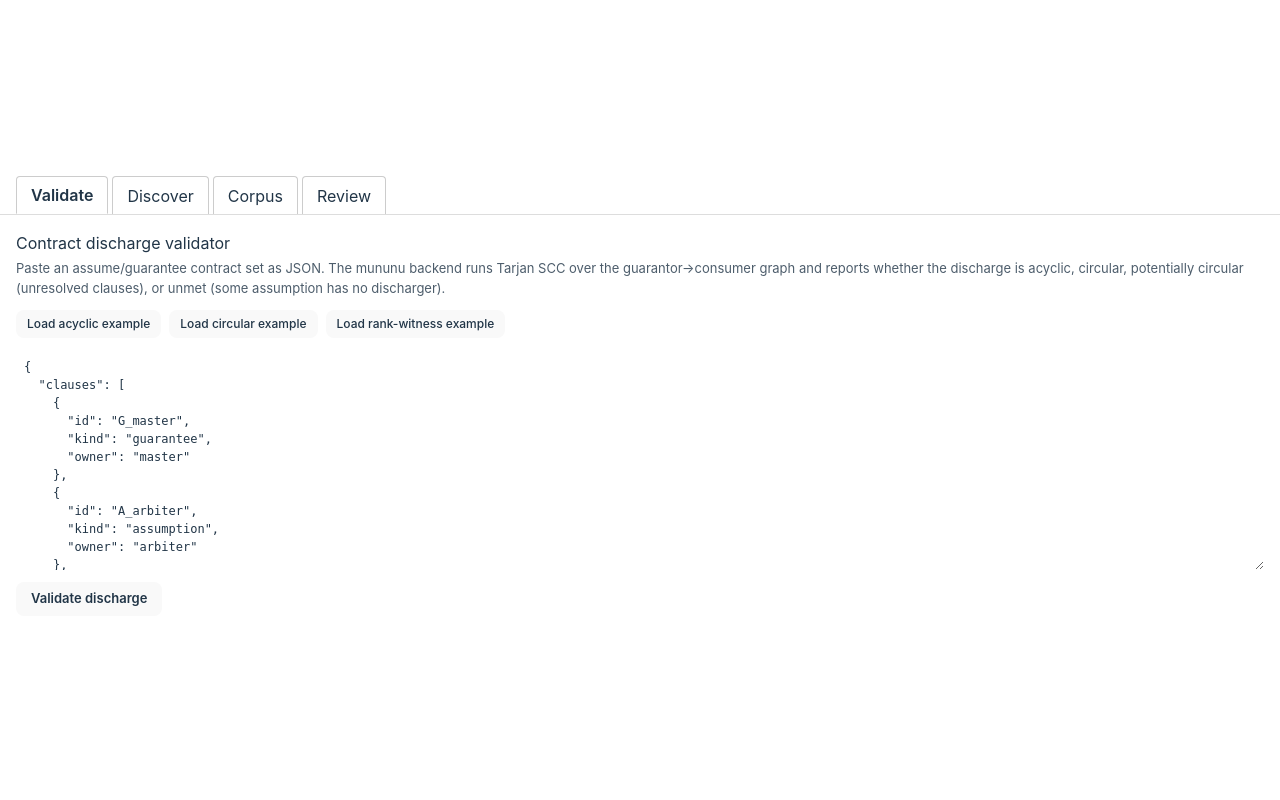
it: ContractPanel › Corpus tab renders ranked candidates with provenance + soundness badges
The width and height of the screenshot is (1280, 800).
Click the button "Corpus" at (255, 195), box [213,176,298,214]
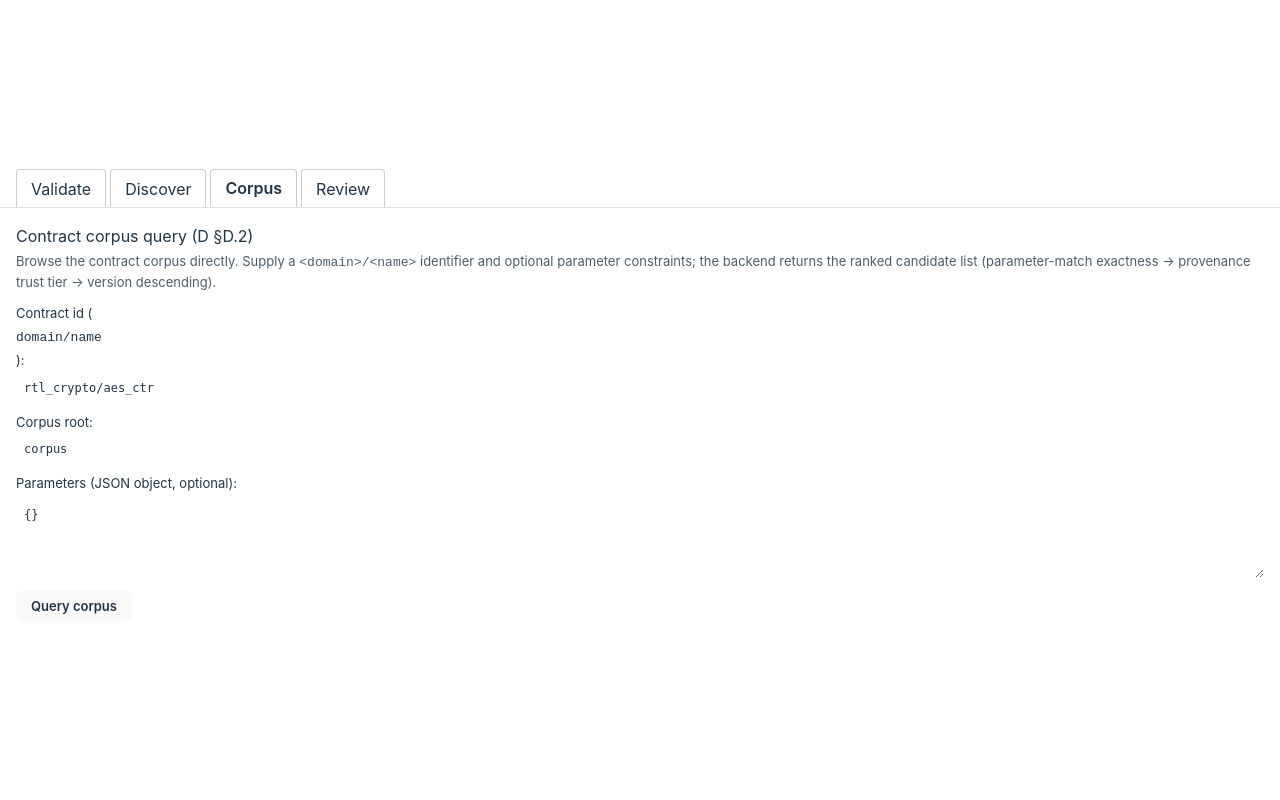
Click the button "Query corpus" at (74, 606), box [16,590,132,623]
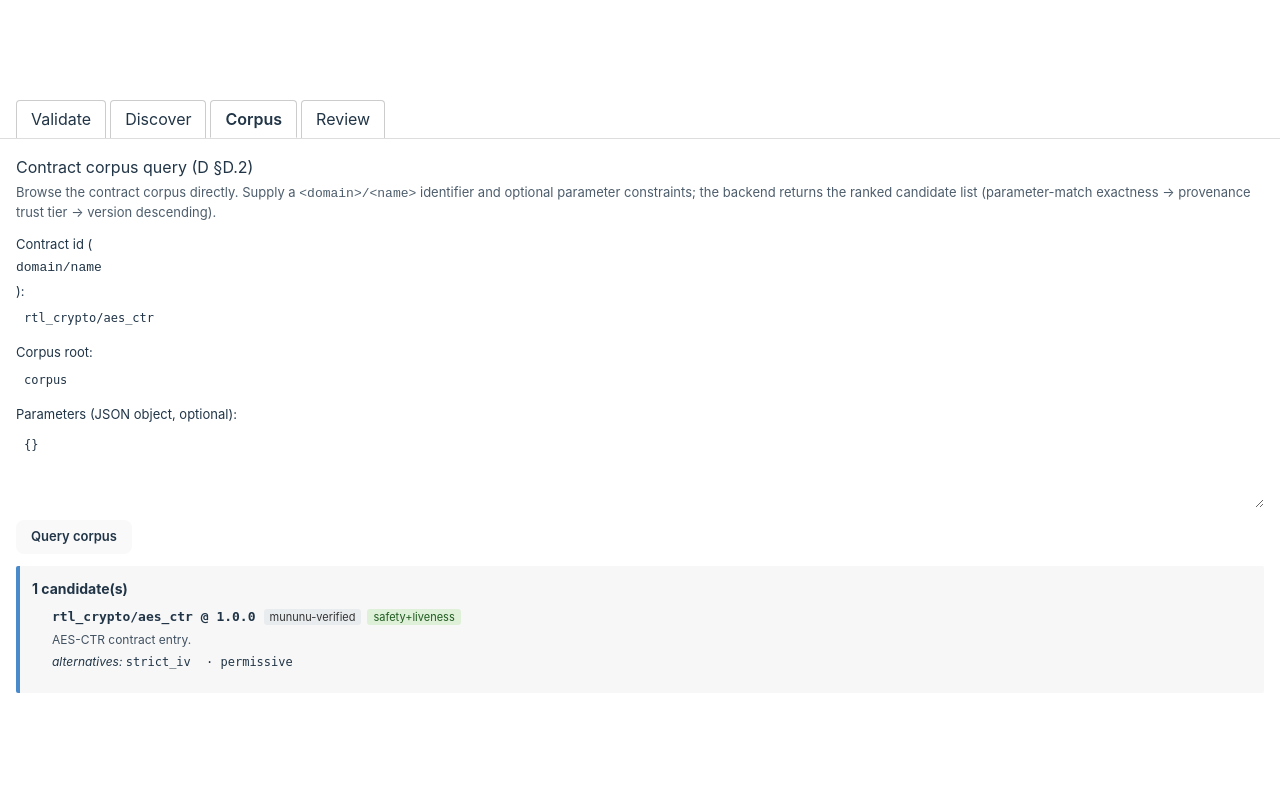
Expected: the text "1 candidate(s)" is shown, [32,580,128,596]
Expected: the text "rtl_crypto/aes_ctr @ 1.0.0" is shown, [52,609,256,624]
Expected: the text "mununu-verified" is shown, [264,609,362,625]
